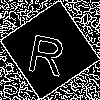R: (25, 25, 70, 77)
